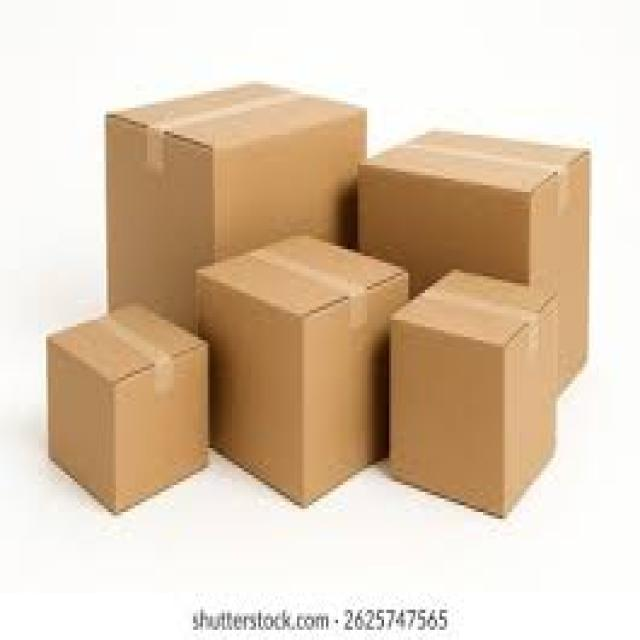box: (107, 85, 367, 330), (360, 132, 589, 387), (196, 236, 408, 505), (392, 273, 557, 515), (49, 307, 207, 511)
